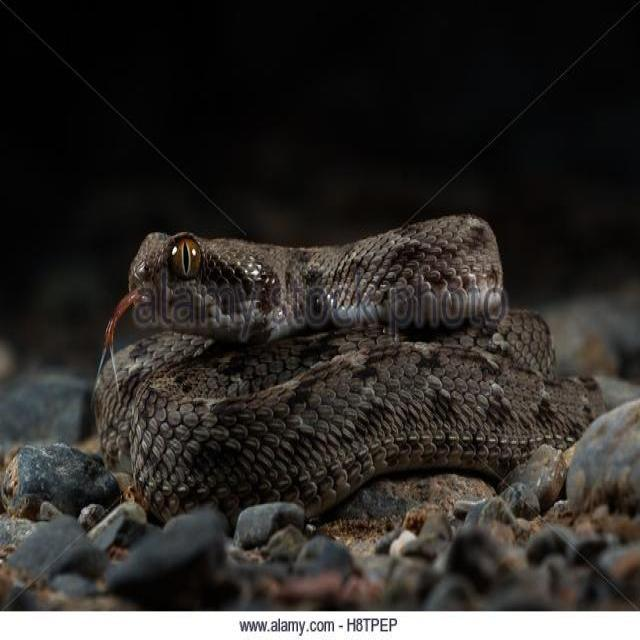Snake: (91, 210, 603, 530)
